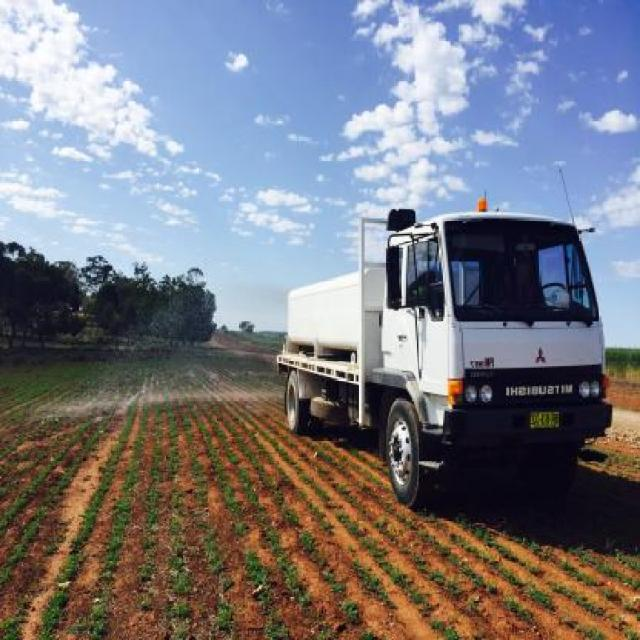truck: (274, 208, 616, 506)
